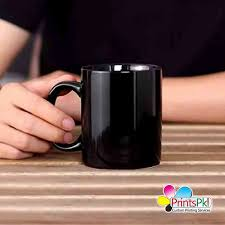mug: (42, 51, 167, 174)
